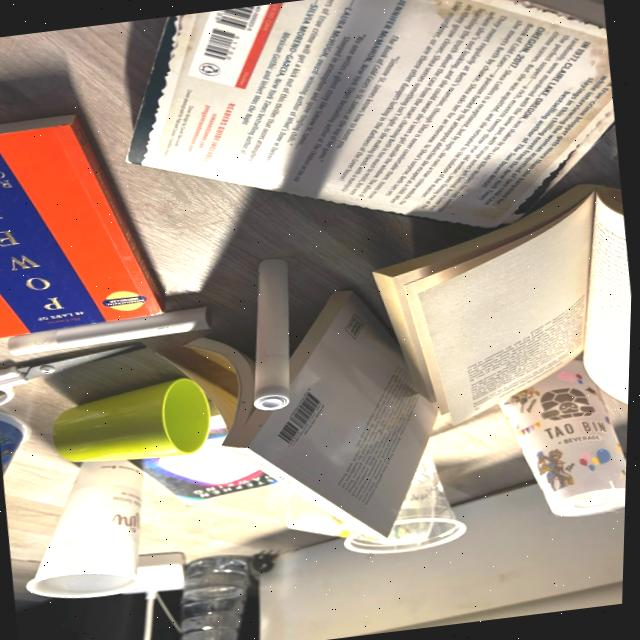Book: (129, 0, 615, 226), (152, 290, 440, 538), (374, 181, 633, 426), (0, 114, 166, 338), (136, 414, 280, 504)
HighLight Pen: (10, 306, 213, 355), (257, 258, 292, 410)
Plastic Cup: (503, 359, 629, 516), (31, 460, 145, 597), (348, 455, 468, 553), (290, 493, 354, 537), (0, 411, 32, 475)
Scissors: (0, 344, 138, 405)
WaterGlass: (55, 377, 212, 461)
